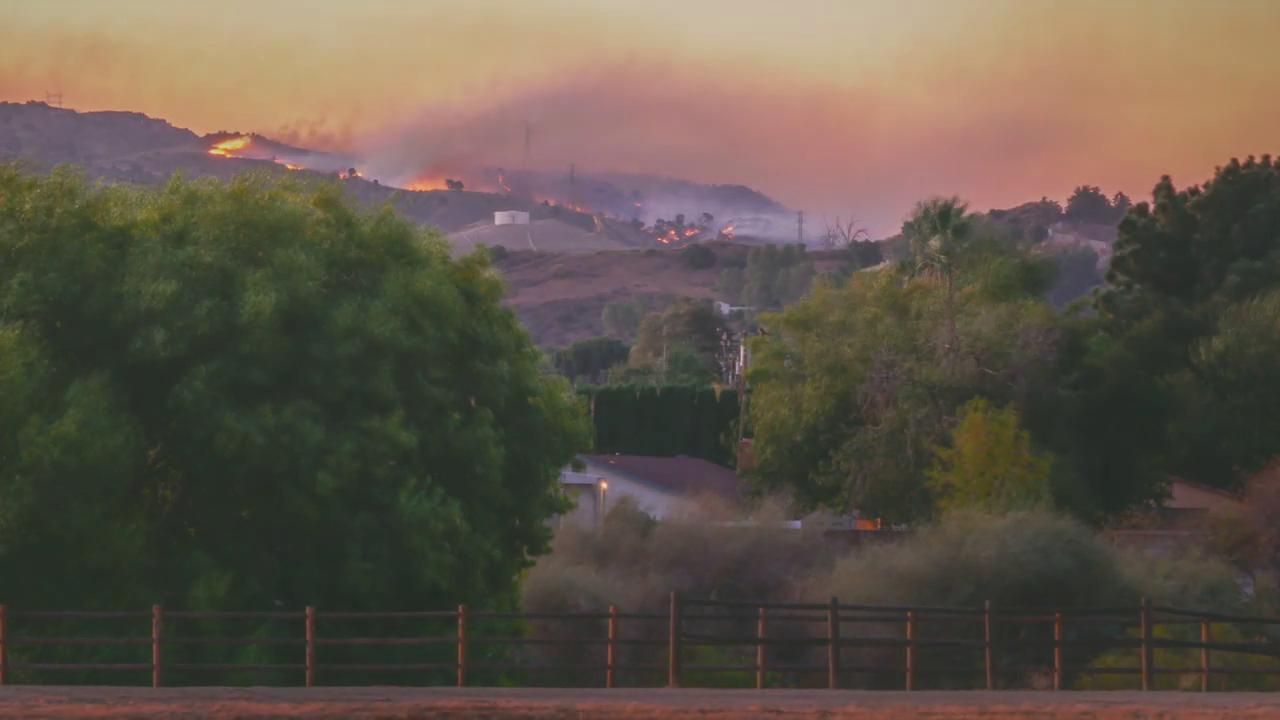fire: (205, 133, 250, 162), (398, 176, 450, 192), (659, 226, 697, 244)
smoke: (570, 58, 920, 241), (266, 56, 568, 179)
